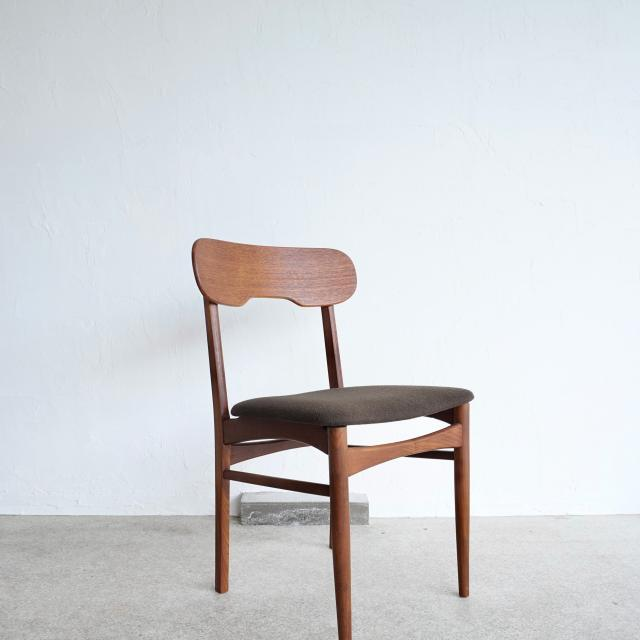chair vintage: (185, 235, 474, 640)
